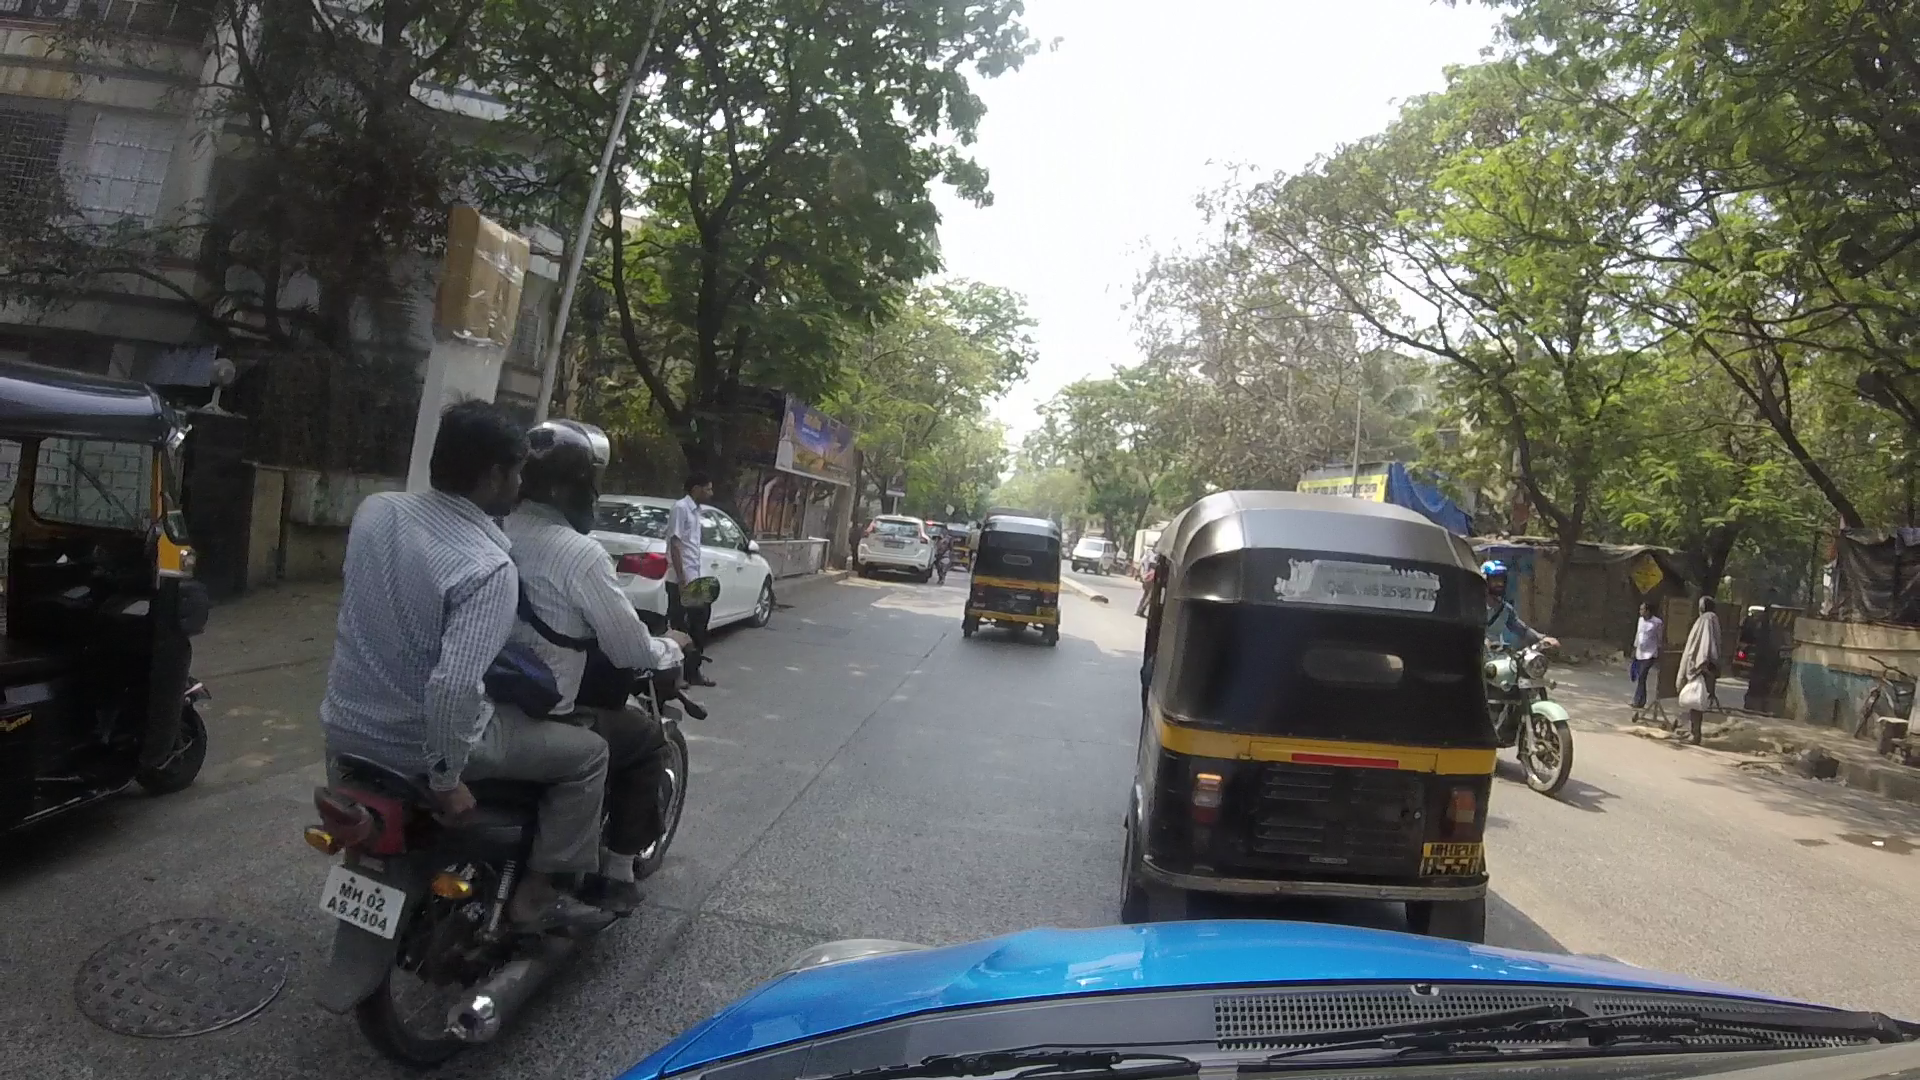bike/scooter: (302, 585, 723, 1042), (1452, 554, 1590, 795)
car: (593, 492, 769, 624)
rickshaw: (1122, 485, 1484, 949), (22, 375, 202, 807), (967, 504, 1063, 642)
